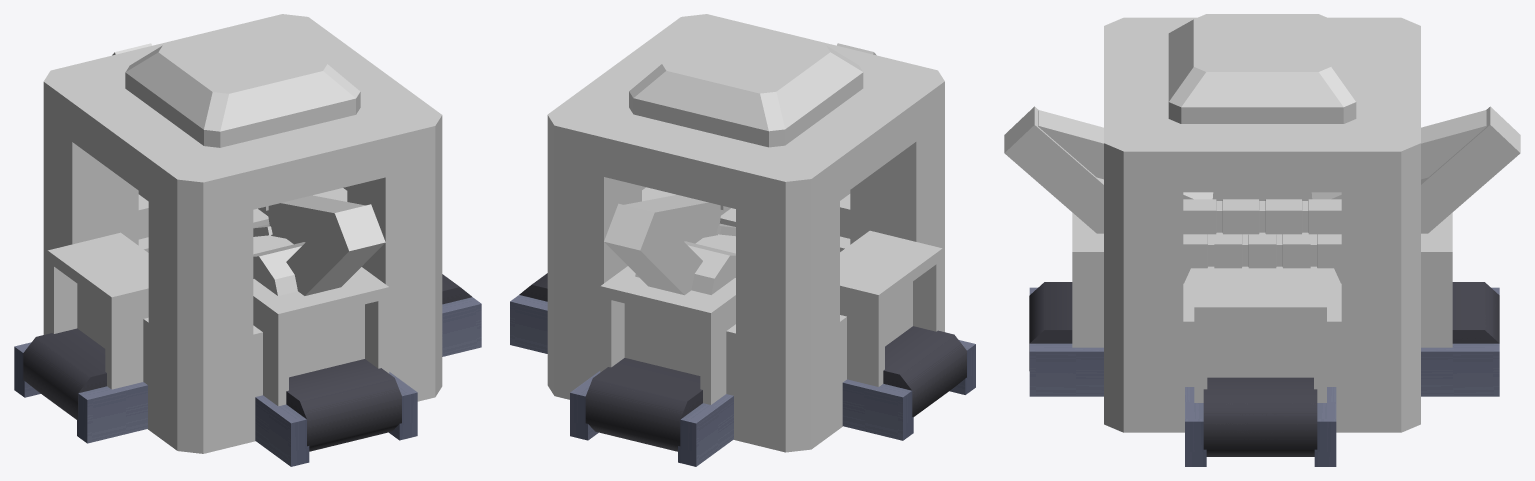
File: ChipRefinery.glb
3 views of the same model, side by side, from view 1: azimuth 30°, elevation 25°; view 2: azimuth 150°, elevation 25°; view 3: azimuth 270°, elevation 25° (orthographic). The views are drawn at different scales.
Parts seen in each view (by area): view 1: Cube, Cube.002, Cube.001, Cube.016, Cube.003, conveyor.003, conveyor.001, Cube.006, Cube.008, Cube.005, Cylinder, conveyor; view 2: Cube, Cube.002, Cube.001, Cube.016, Cube.003, conveyor.002, conveyor.001, Cube.006, Cube.007, Cube.005, Cylinder; view 3: Cube, Cube.002, Cube.003, Cube.016, Cube.004, conveyor, Cube.001, Cube.007, Cube.008, Cube.005, conveyor.002, conveyor.003.
Boxes of the visible parts, x1=… form: Cube: x1=43, y1=14, x2=442, y2=453; Cube.002: x1=125, y1=22, x2=360, y2=147; Cube.001: x1=138, y1=194, x2=389, y2=406; Cube.016: x1=47, y1=188, x2=347, y2=389; Cube.003: x1=112, y1=43, x2=385, y2=295; conveyor.003: x1=286, y1=359, x2=401, y2=451; conveyor.001: x1=23, y1=328, x2=106, y2=419; Cube.006: x1=14, y1=342, x2=147, y2=443; Cube.008: x1=255, y1=372, x2=417, y2=466; Cube.005: x1=442, y1=297, x2=481, y2=356; Cylinder: x1=138, y1=191, x2=354, y2=295; conveyor: x1=442, y1=274, x2=471, y2=304; Cube: x1=547, y1=14, x2=944, y2=452; Cube.002: x1=629, y1=22, x2=863, y2=147; Cube.001: x1=600, y1=194, x2=850, y2=404; Cube.016: x1=642, y1=187, x2=942, y2=386; Cube.003: x1=604, y1=43, x2=876, y2=295; conveyor.002: x1=585, y1=358, x2=702, y2=451; conveyor.001: x1=883, y1=326, x2=966, y2=416; Cube.006: x1=842, y1=340, x2=975, y2=440; Cube.007: x1=570, y1=371, x2=733, y2=466; Cube.005: x1=510, y1=295, x2=547, y2=353; Cylinder: x1=635, y1=190, x2=850, y2=294; Cube: x1=1104, y1=17, x2=1420, y2=432; Cube.002: x1=1168, y1=14, x2=1356, y2=123; Cube.003: x1=1004, y1=106, x2=1520, y2=233; Cube.016: x1=1194, y1=192, x2=1326, y2=402; Cube.004: x1=1183, y1=199, x2=1341, y2=268; conveyor: x1=1203, y1=377, x2=1317, y2=456; Cube.001: x1=1072, y1=212, x2=1452, y2=347; Cube.007: x1=1421, y1=287, x2=1499, y2=396; Cube.008: x1=1029, y1=287, x2=1103, y2=396; Cube.005: x1=1185, y1=387, x2=1336, y2=466; conveyor.002: x1=1452, y1=282, x2=1499, y2=343; conveyor.003: x1=1029, y1=282, x2=1072, y2=370.
Size of the model in its own units: 3.11 by 2.35 by 3.4.
1 material, 1 textured.
